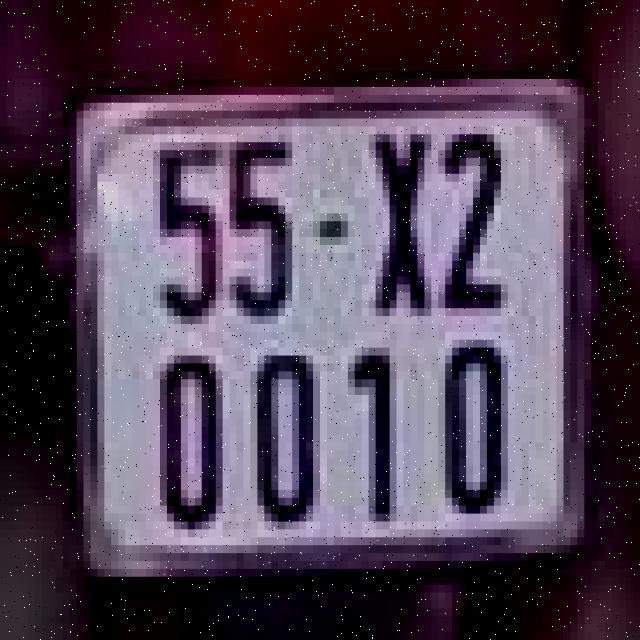0: (150, 352, 226, 526), (247, 352, 323, 526), (442, 340, 511, 521)
1: (348, 340, 403, 537)
2: (431, 122, 522, 328)
5: (139, 130, 230, 328), (226, 138, 296, 320)
X: (351, 118, 442, 324)
